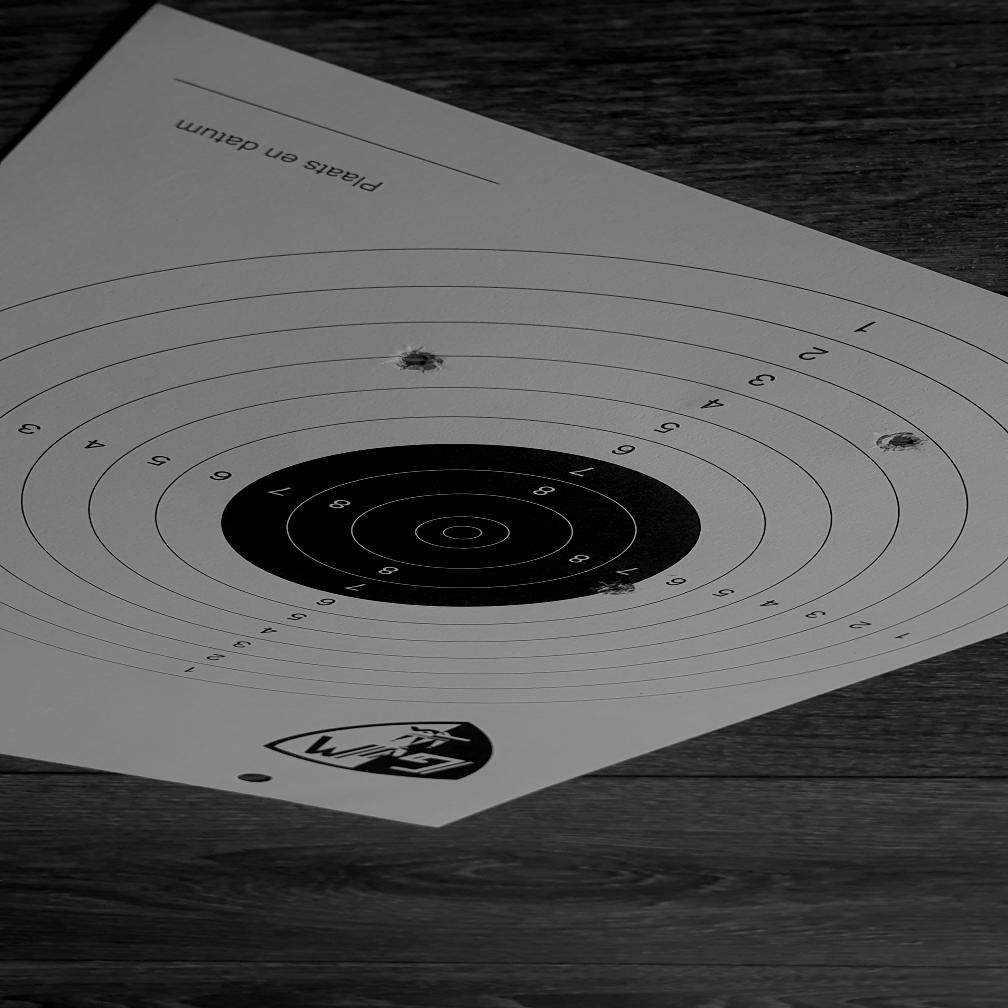3: (868, 430, 931, 454)
4: (387, 346, 459, 376)
7: (590, 573, 641, 601)
Target: (0, 247, 1000, 708)
black_contour: (219, 445, 700, 606)
